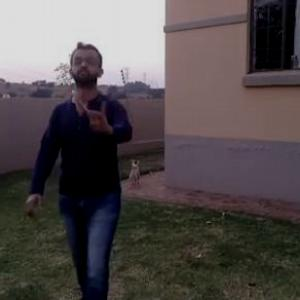takeoff-hand: (80, 98, 114, 138)
